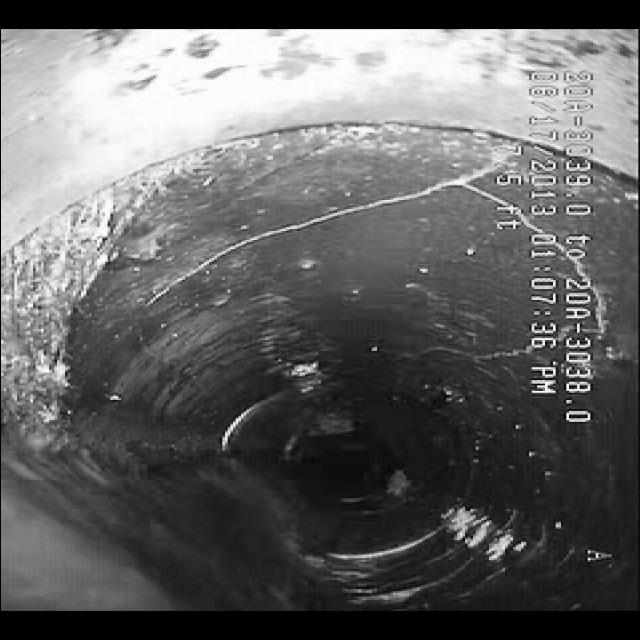Crack: (164, 184, 460, 278)
